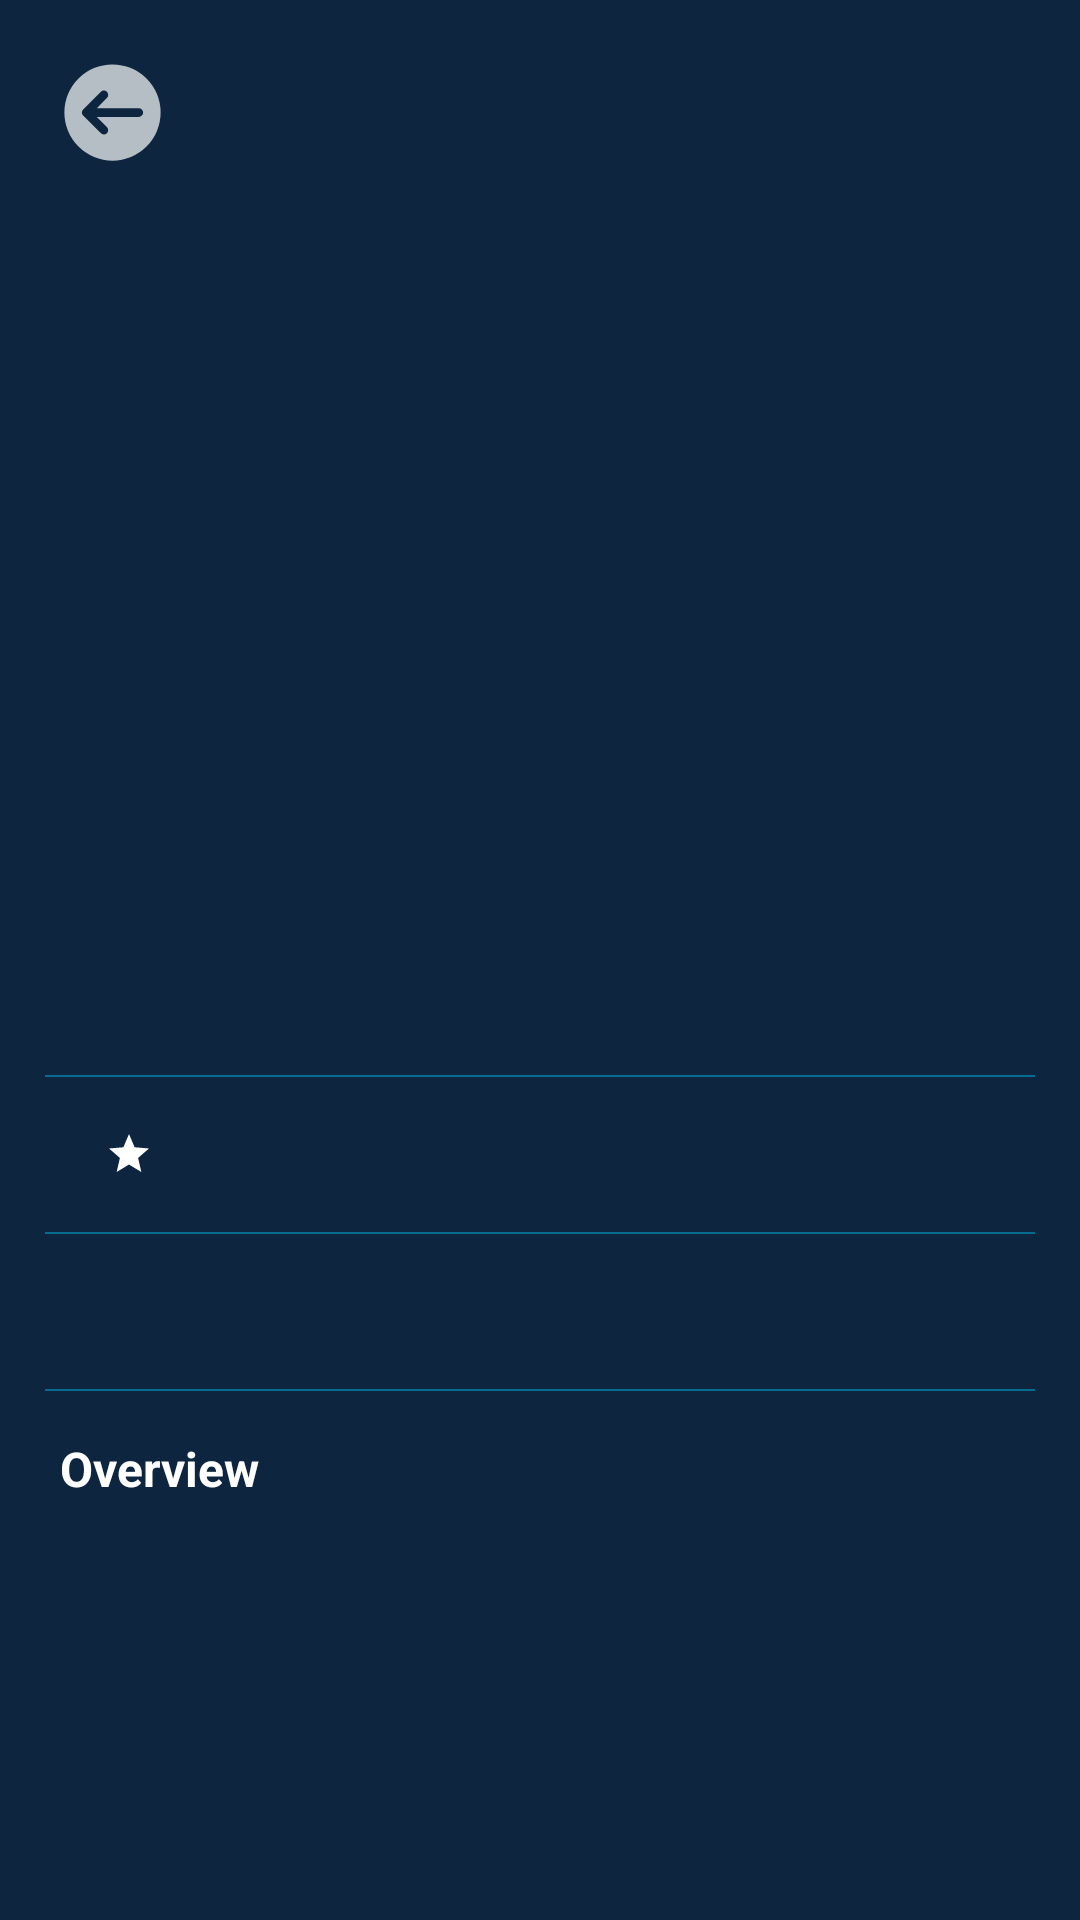

Icons on this 1080w x 1920h Android screen, each with the point to tap as (x,y):
Back navigation: (112,112)
